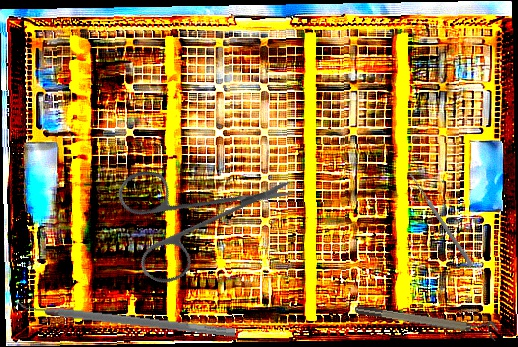Fixation Ring: (353, 297, 500, 341)
Iris Scissors: (89, 111, 298, 320)
Spatula Surgical: (15, 295, 237, 338)
Surgical Spoon: (407, 171, 475, 268)
